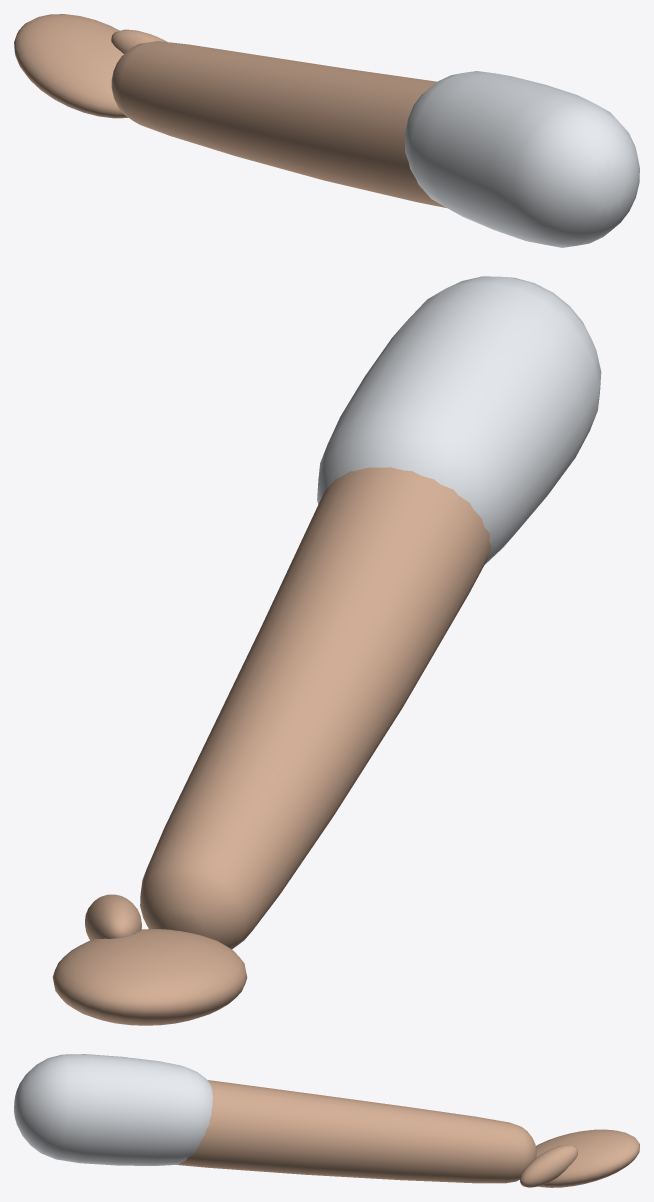
The model's file is cang_tay_phai.glb.
3 renders of one model, top to bottom at view 1: azimuth 30°, elevation 25°; view 2: azimuth 150°, elevation 25°; view 3: azimuth 270°, elevation 25°, orthographic. The views are drawn at different scales.
Visible parts, largest first — view 1: cang_tay_phai; view 2: cang_tay_phai; view 3: cang_tay_phai.
Boxes of the visible parts, bbox=[...] form: cang_tay_phai: bbox=[14, 14, 639, 247]; cang_tay_phai: bbox=[52, 276, 601, 1025]; cang_tay_phai: bbox=[14, 1054, 639, 1187].
Bounding box in the file's own units: 0.1714 × 0.1546 × 0.5505.
